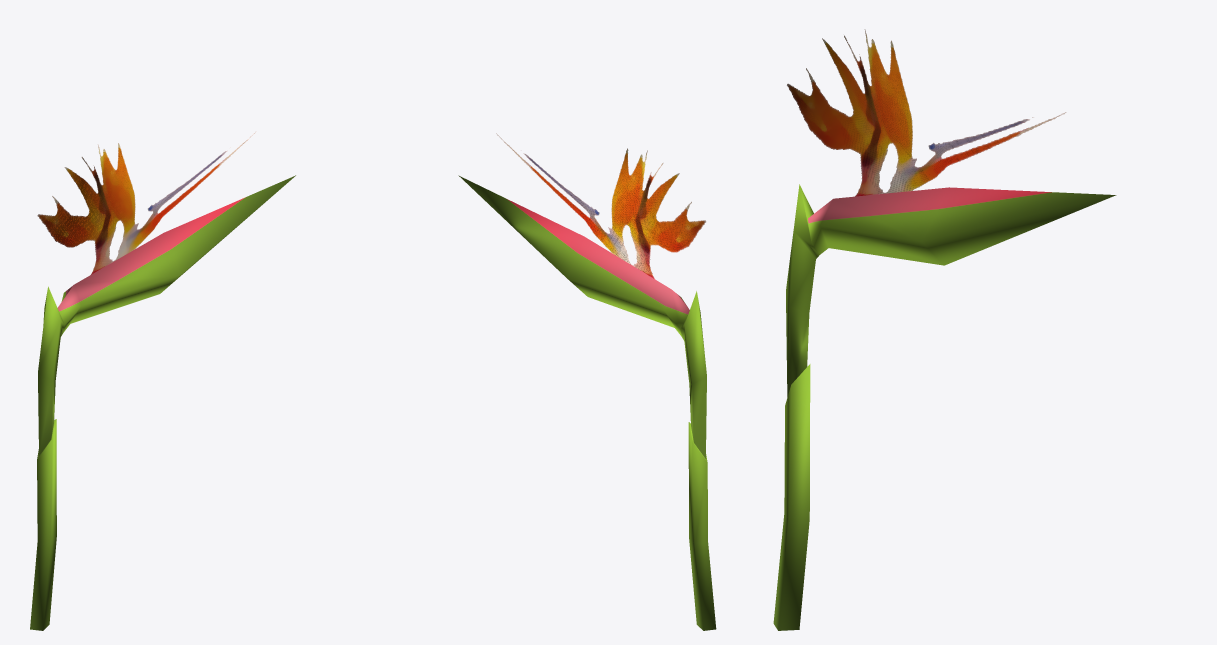
File: BirdOfParadise01.fbx
3 views of the same model, side by side, from view 1: azimuth 30°, elevation 25°; view 2: azimuth 150°, elevation 25°; view 3: azimuth 330°, elevation 25° (orthographic). The views are drawn at different scales.
Parts seen in each view (by area): view 1: Cube; view 2: Cube; view 3: Cube.
Boxes of the visible parts, box(x1,y1,x2,y2) form: Cube: box(30, 131, 295, 630); Cube: box(458, 133, 716, 630); Cube: box(773, 29, 1116, 630).
Bounding box in the file's own units: 1487 × 2218 × 283.
